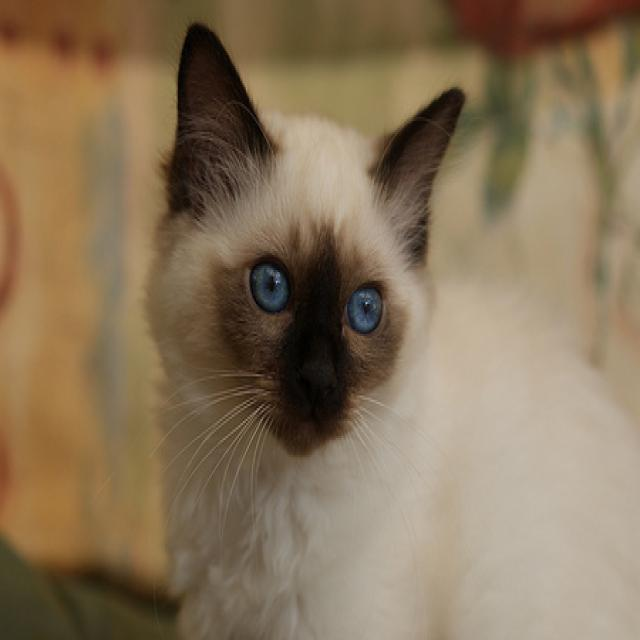Birman: (141, 15, 640, 640)
